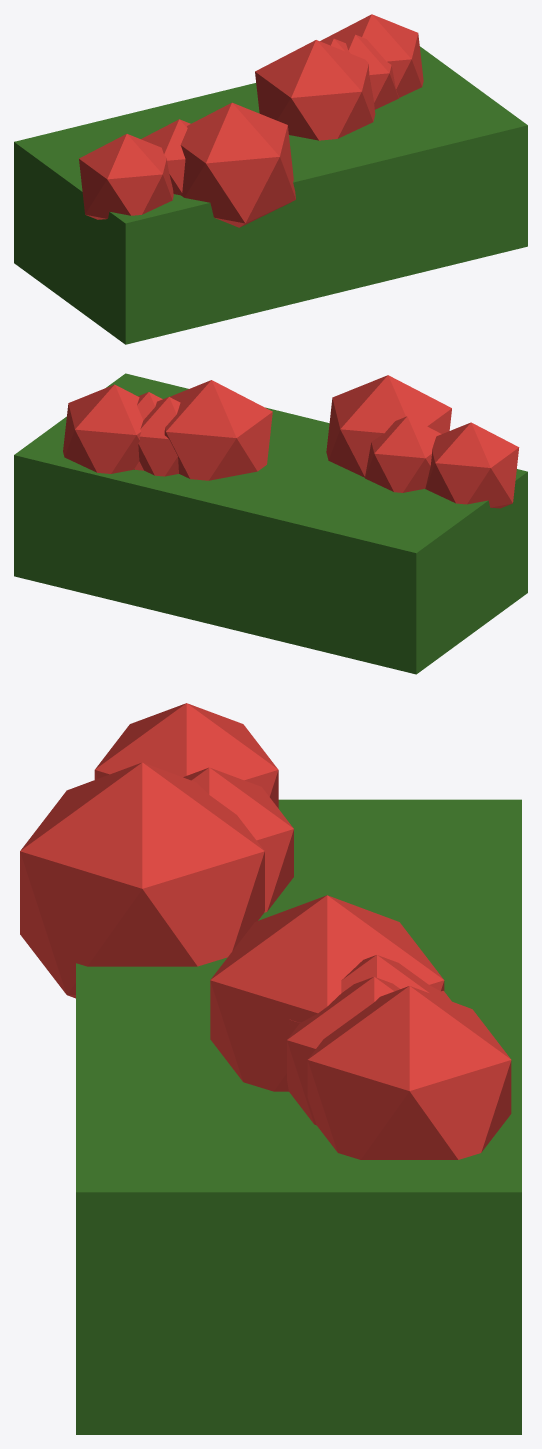
File: flower_row_red.fbx
3 views of the same model, one above another, from view 1: azimuth 30°, elevation 25°; view 2: azimuth 150°, elevation 25°; view 3: azimuth 270°, elevation 25° (orthographic). The views are drawn at different scales.
Visible parts, largest first — view 1: flower_row_red; view 2: flower_row_red; view 3: flower_row_red.
Boxes of the visible parts, box(x1,y1,x2,y2) form: flower_row_red: box(14, 14, 527, 344); flower_row_red: box(14, 373, 527, 674); flower_row_red: box(20, 703, 521, 1434).
Size of the model in its own units: 1.29 by 0.5935 by 0.6751.
